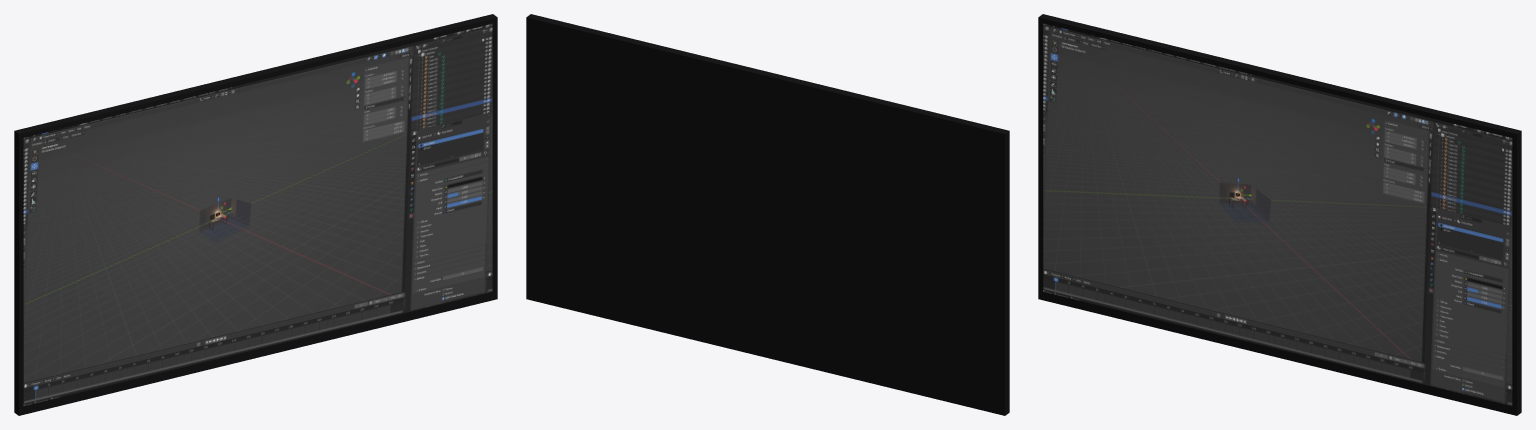
The model's file is screen.glb.
3 views of the same model, side by side, from view 1: azimuth 30°, elevation 25°; view 2: azimuth 150°, elevation 25°; view 3: azimuth 330°, elevation 25° (orthographic).
Visible parts, largest first — view 1: Cube.015; view 2: Cube.015; view 3: Cube.015.
Part boxes in pixels (box(x1,y1,x2,y2)): Cube.015: box(14, 14, 497, 415); Cube.015: box(526, 14, 1009, 415); Cube.015: box(1038, 14, 1521, 415).
Size of the model in its own units: 0.5967 by 0.3357 by 0.01.
Materials: 2 (1 with a texture image).
